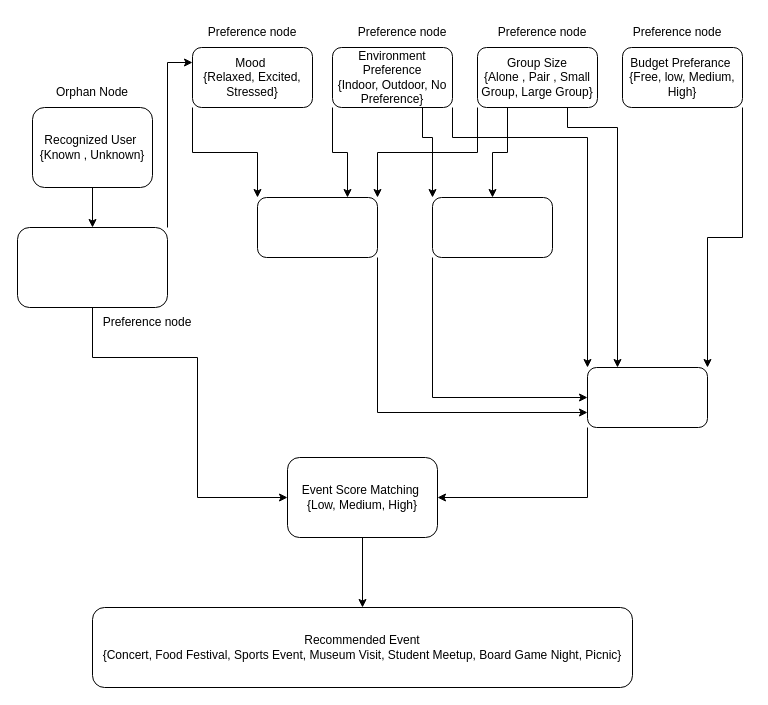
Some shapes in this 768 by 705 pixel diagram are drawn without their labels. Here are the shapes that lost their labels. From the top down, the centre of each, then its label:
At (317,227): "Social Energy {Low, Medium, High}".
At (492,227): "Time Restrictions {Short , Medium , Long}".
At (92,267): "User Preference History {Music, Food, Sports, Culture, Networking, Games}".
At (647,397): "Interest type {Music, Food, Sports, Culture, Networking, Games}".
